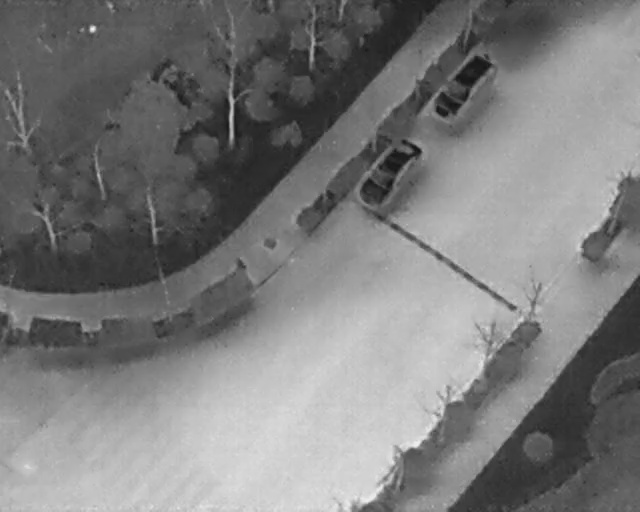Car: (423, 45, 502, 130), (351, 131, 429, 216)
